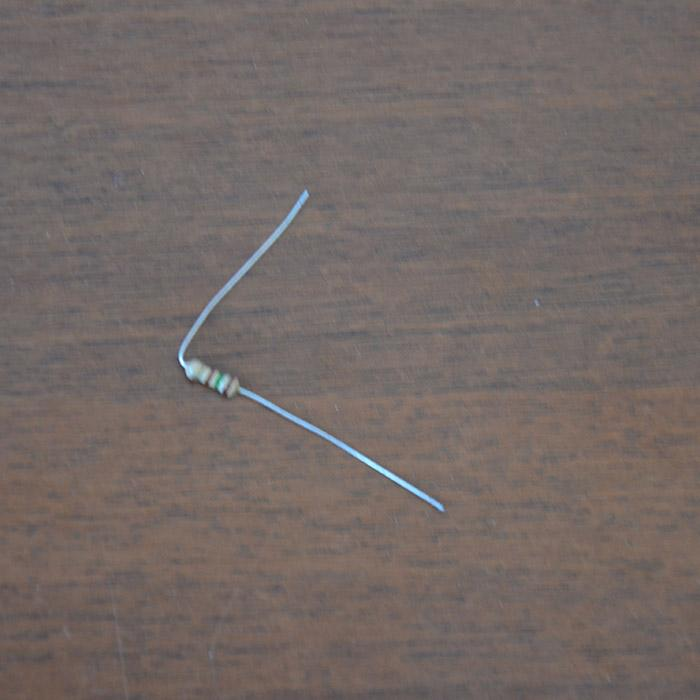resistor: (182, 356, 241, 398)
